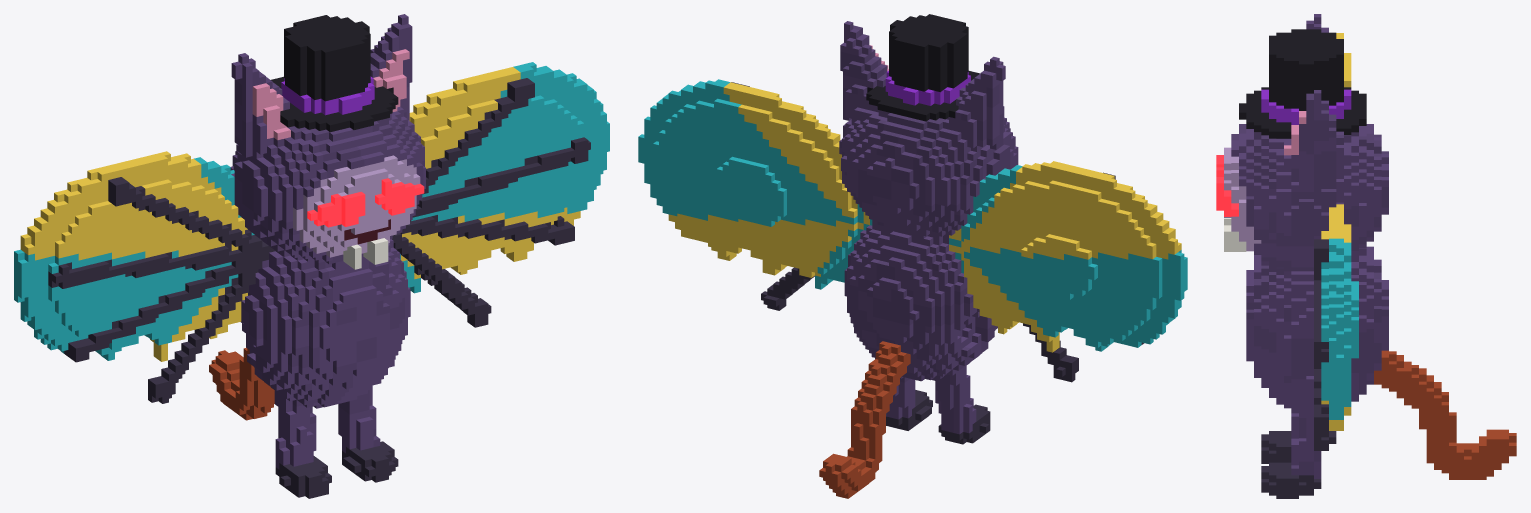
File: ombrellino_pipistrello.glb
3 renders of one model, left to right at view 1: azimuth 30°, elevation 25°; view 2: azimuth 150°, elevation 25°; view 3: azimuth 270°, elevation 25°, orthographic. The views are drawn at different scales.
Visible parts, largest first — view 1: SM_Brainrot_ombrellino_pipistrello; view 2: SM_Brainrot_ombrellino_pipistrello; view 3: SM_Brainrot_ombrellino_pipistrello.
Part boxes in pixels (x1,y1,x2,y2): SM_Brainrot_ombrellino_pipistrello: (14,14,609,498); SM_Brainrot_ombrellino_pipistrello: (638,14,1187,498); SM_Brainrot_ombrellino_pipistrello: (1216,14,1516,498).
Bounding box in the file's own units: 5.34 × 3.78 × 2.4.
1 material, 1 textured.
